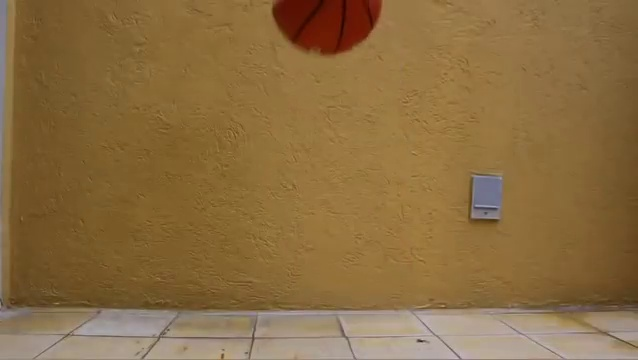ball: (269, 5, 385, 54)
